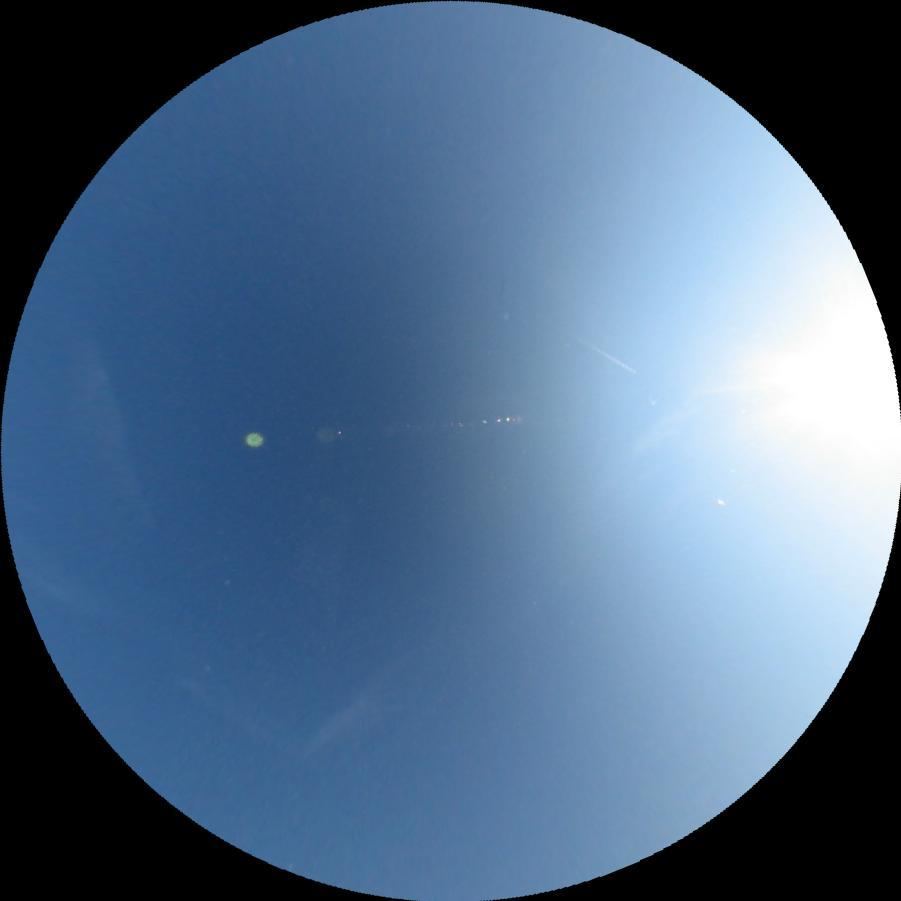contrail young: (567, 330, 636, 375)
